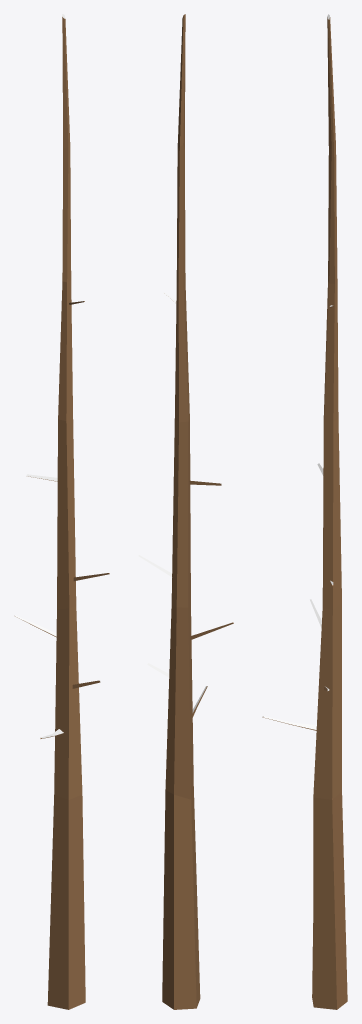
The model's file is Pine_Tree_NoLeaves_l_Snow_BT_02.fbx.
The picture shows the model from 3 angles, left to right: view 1: azimuth 30°, elevation 25°; view 2: azimuth 210°, elevation 25°; view 3: azimuth 330°, elevation 25°; orthographic projection.
Visible parts, largest first — view 1: Pine_Tree_NoLeaves_l_Snow_BT_02; view 2: Pine_Tree_NoLeaves_l_Snow_BT_02; view 3: Pine_Tree_NoLeaves_l_Snow_BT_02.
Boxes of the visible parts, x1,y1,x2,y2 form: Pine_Tree_NoLeaves_l_Snow_BT_02: (14, 14, 109, 1009); Pine_Tree_NoLeaves_l_Snow_BT_02: (138, 14, 233, 1009); Pine_Tree_NoLeaves_l_Snow_BT_02: (262, 14, 347, 1009).
Bounding box in the file's own units: 131 × 1764 × 122.
